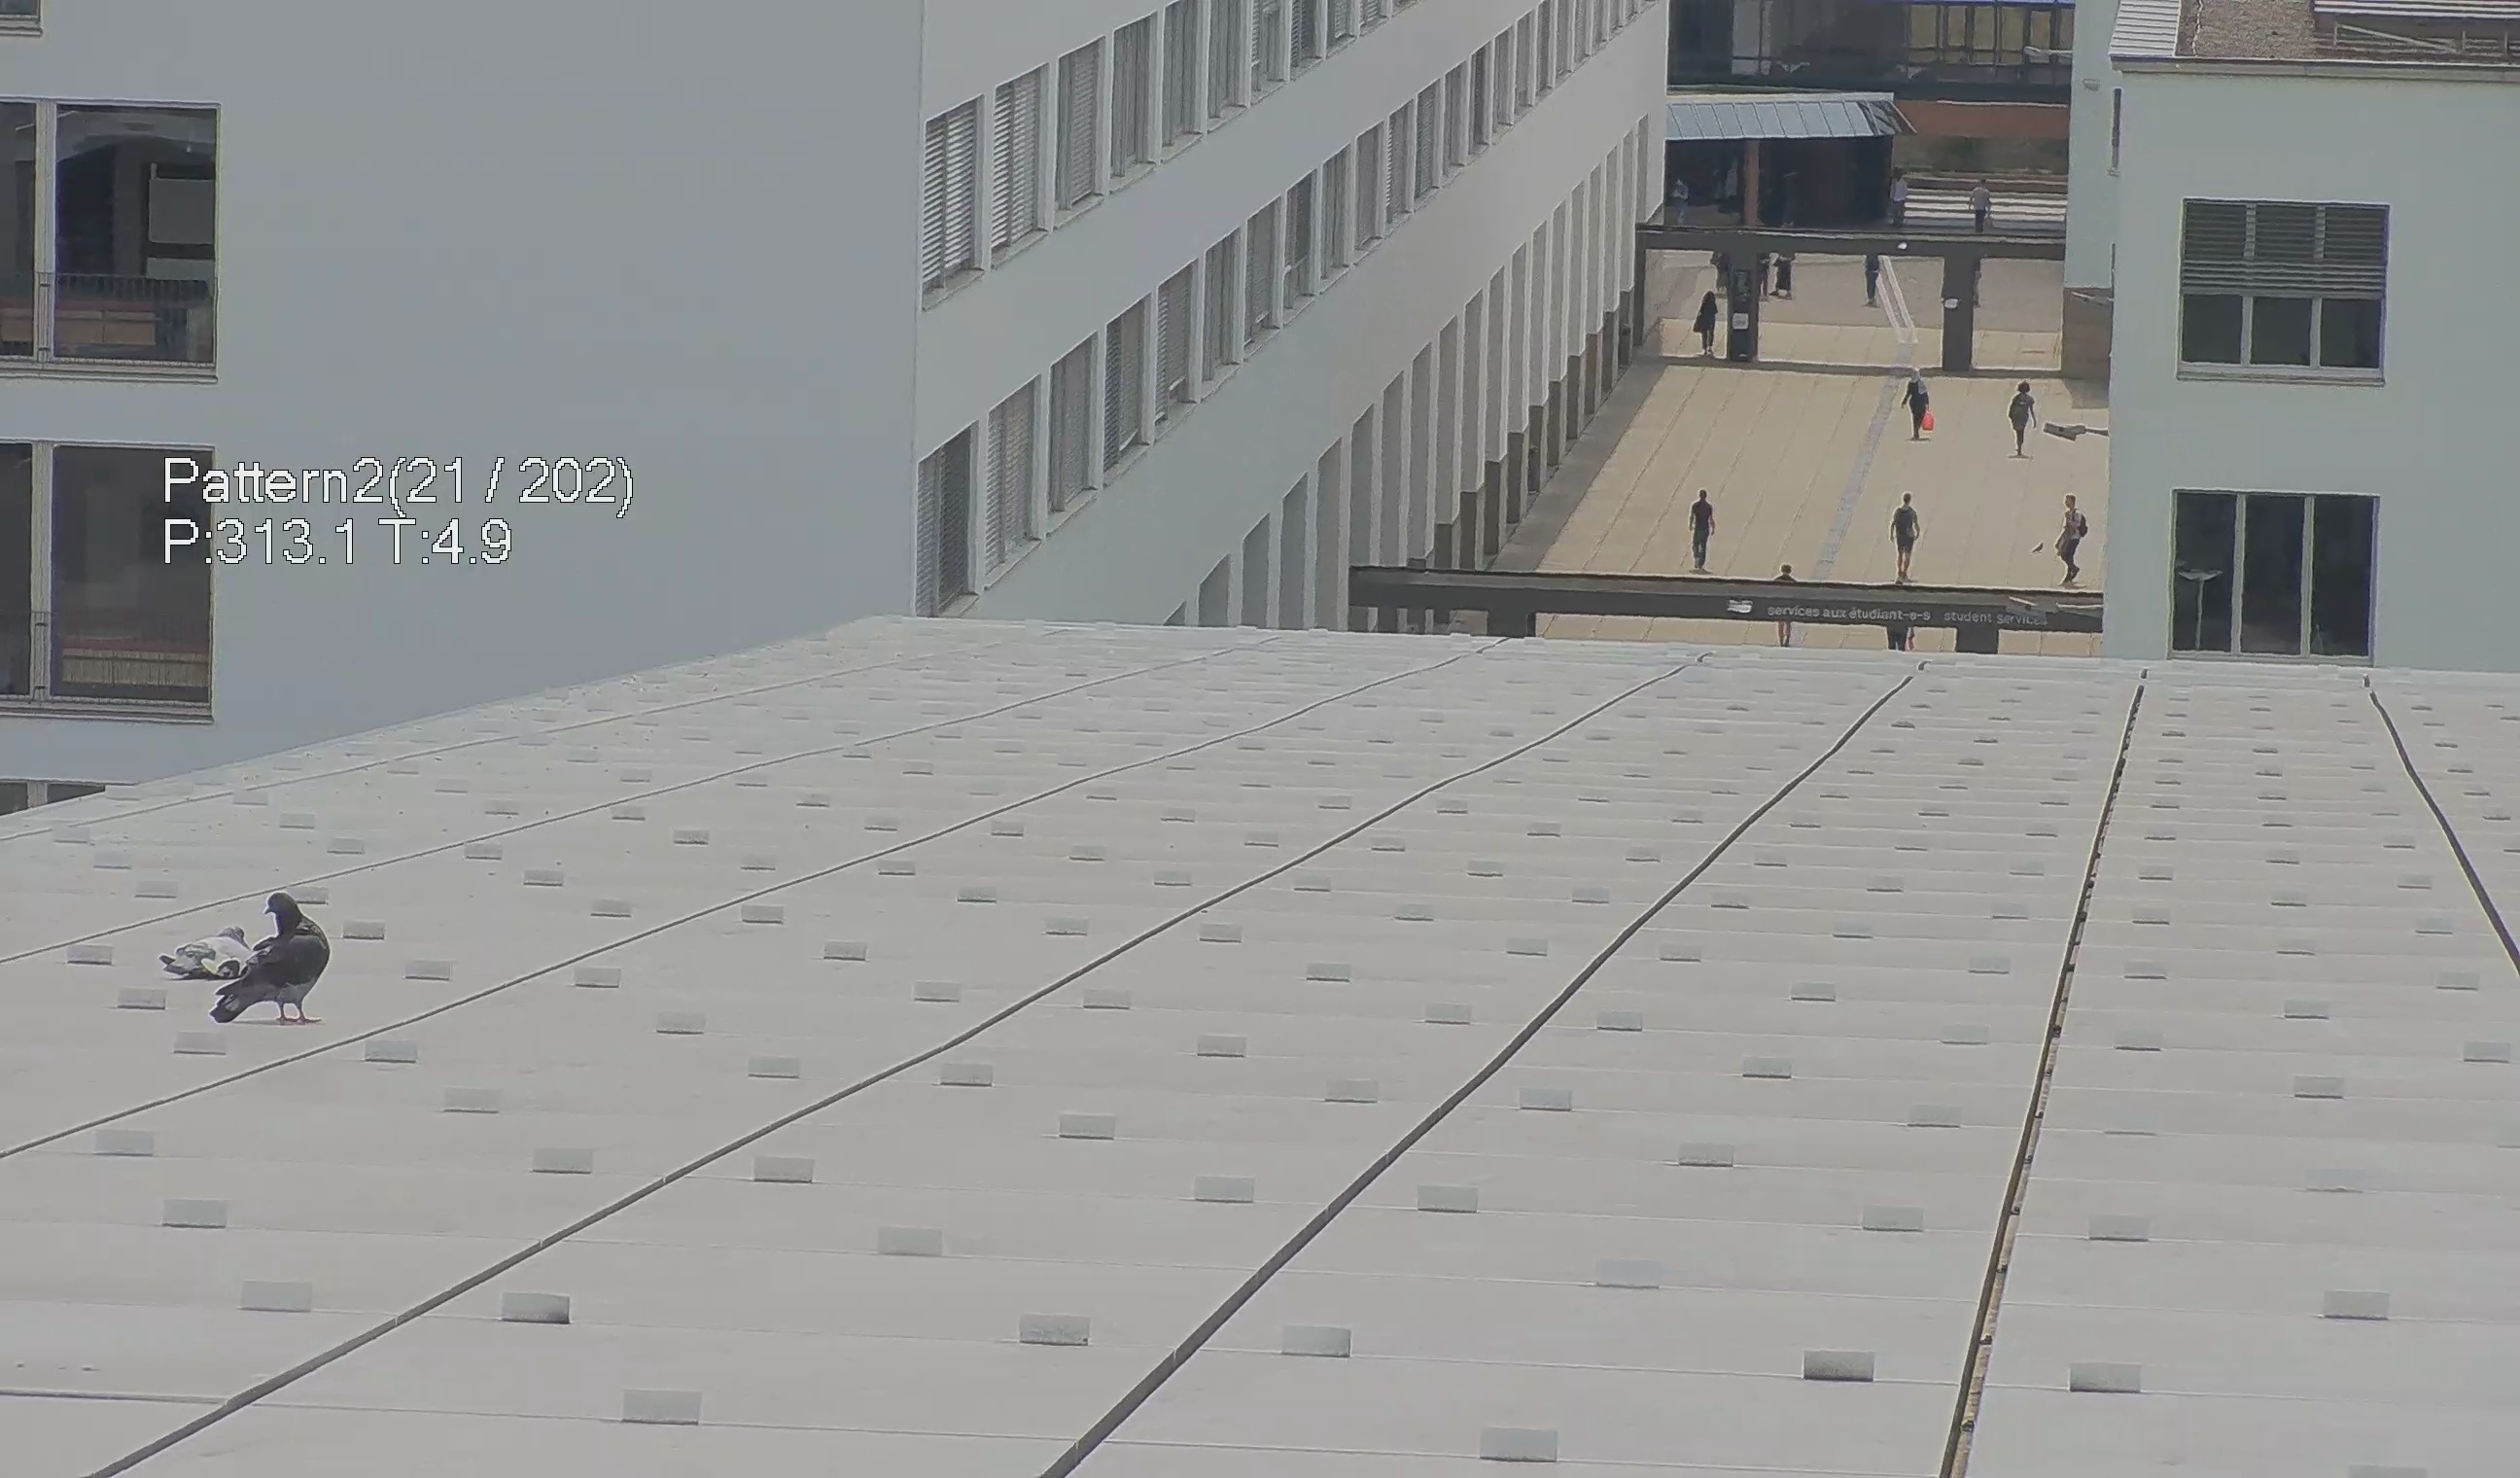Pigeon: (209, 894, 334, 1031), (149, 913, 259, 987)
